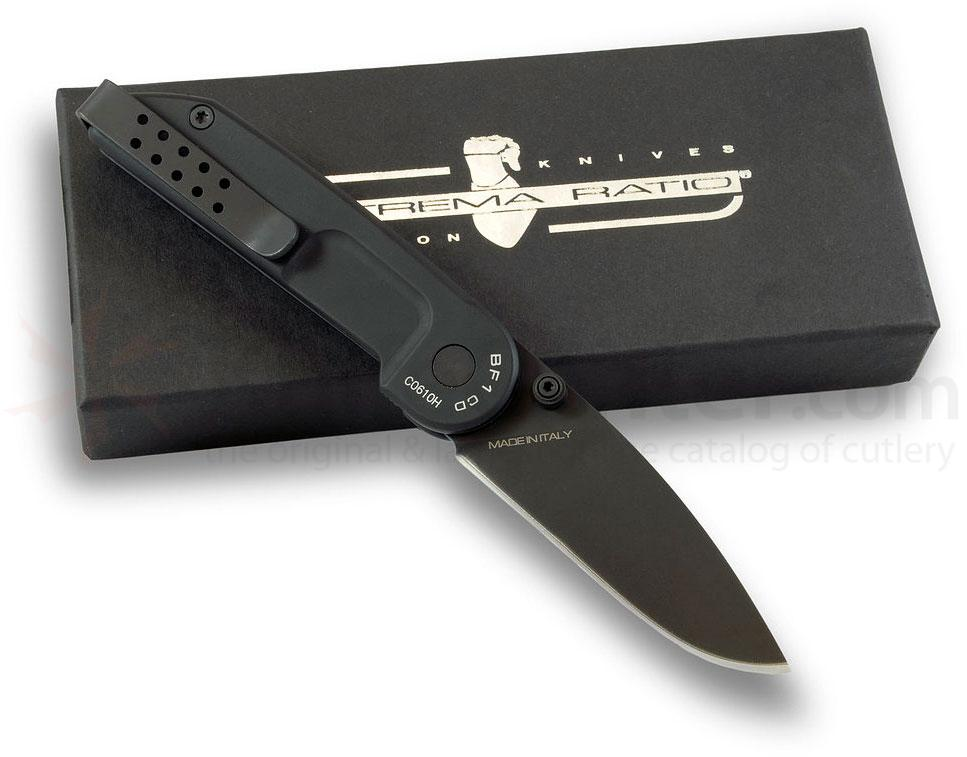knife: (395, 335, 805, 690)
